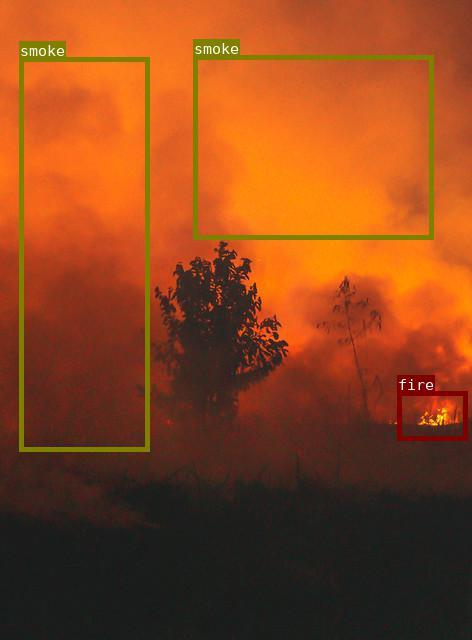fire: (396, 391, 466, 440)
smoke: (18, 56, 149, 451), (192, 54, 433, 238)
